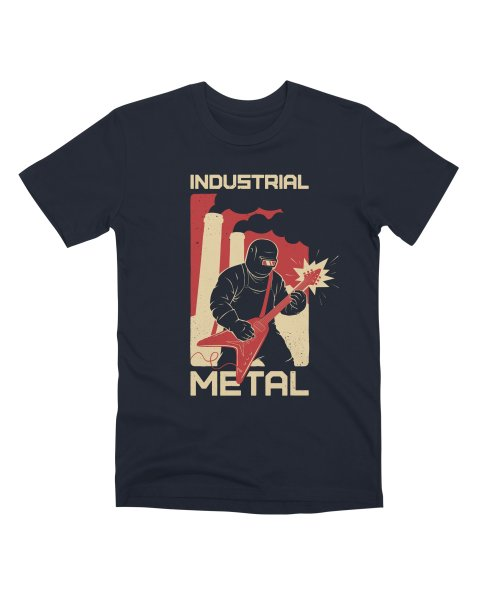design: (184, 167, 343, 406)
